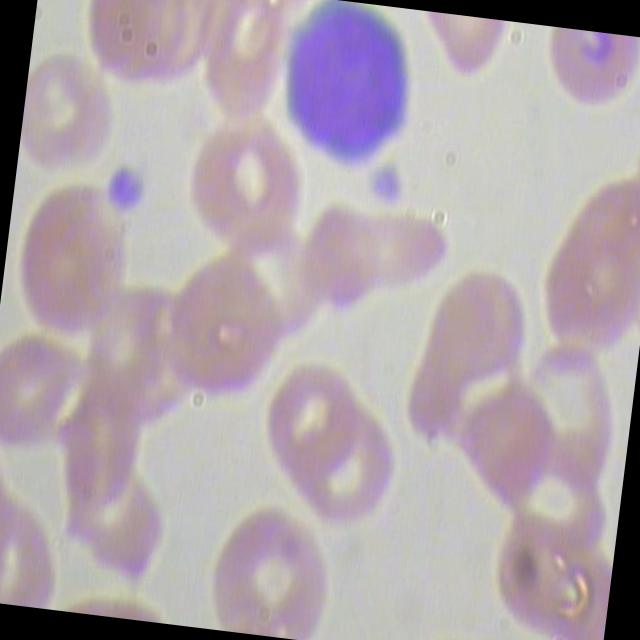Platelets: (93, 160, 156, 222), (362, 160, 409, 214)
RBC: (168, 112, 309, 260), (250, 354, 366, 488), (288, 402, 404, 536)
WBC: (262, 0, 420, 180)
